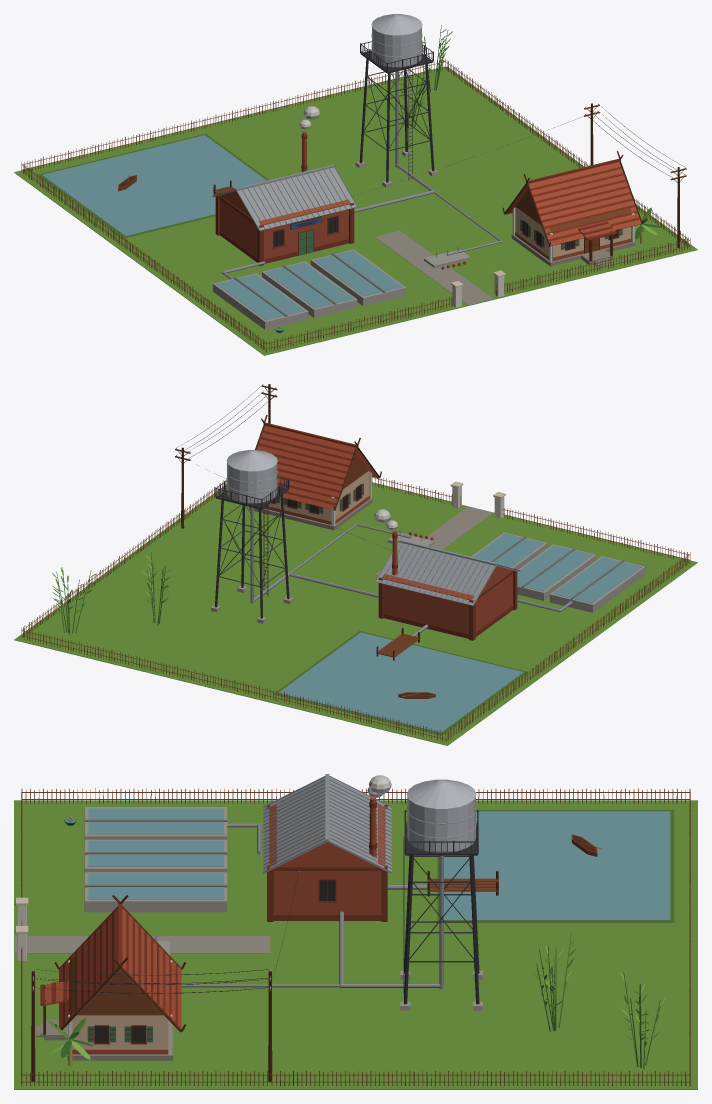
Rendered from water_works.glb.
3 views of the same model, one above another, from view 1: azimuth 30°, elevation 25°; view 2: azimuth 150°, elevation 25°; view 3: azimuth 270°, elevation 25° (orthographic). The views are drawn at different scales.
Parts seen in each view (by area): view 1: body, windows; view 2: body; view 3: body, windows.
Part boxes in pixels (left/top/right/bottom): body: left=14, top=14, right=697, bottom=355; windows: left=274, top=216, right=617, bottom=248; body: left=14, top=384, right=697, bottom=745; body: left=14, top=774, right=697, bottom=1089; windows: left=95, top=880, right=335, bottom=1042.
Bounding box in the file's own units: 47.9 × 16.66 × 47.9.
